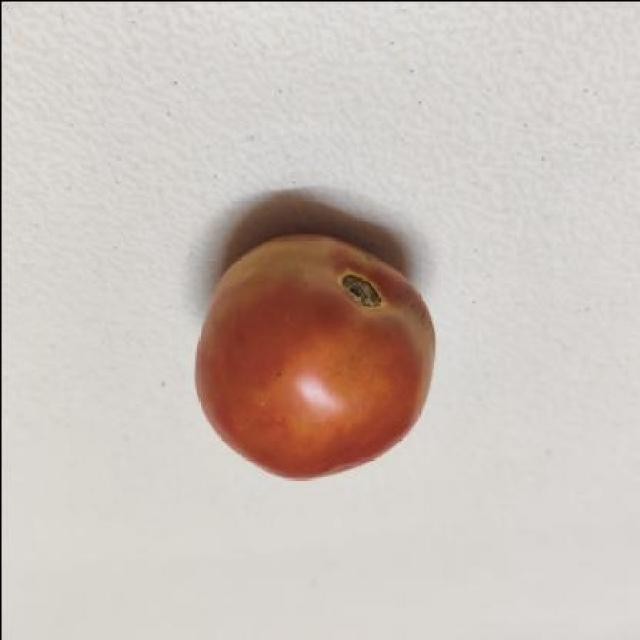Tomato: (170, 225, 444, 490)
